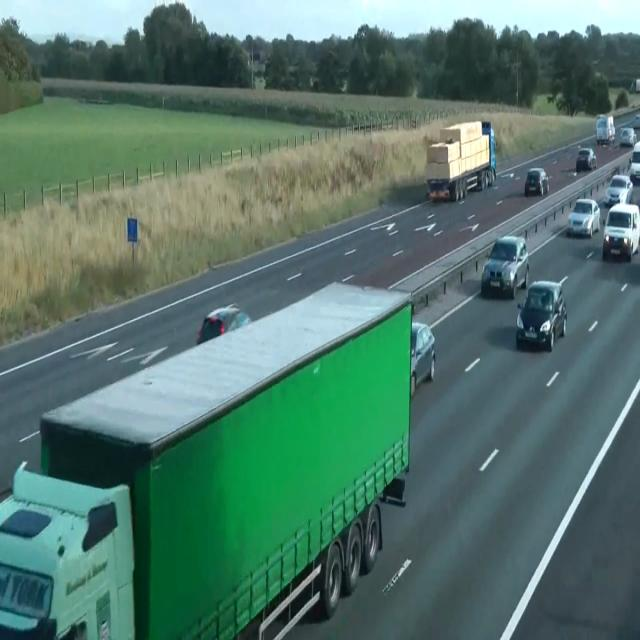bus: (516, 280, 566, 351), (481, 234, 529, 298), (196, 303, 252, 346), (410, 321, 436, 399), (568, 198, 600, 236), (604, 173, 633, 207), (524, 167, 548, 197), (426, 178, 450, 202), (628, 140, 640, 182), (576, 148, 596, 172), (619, 127, 637, 147)
jeep: (0, 459, 136, 638), (602, 202, 639, 260)
minibus: (0, 279, 414, 639), (425, 119, 496, 203), (596, 114, 616, 144)
